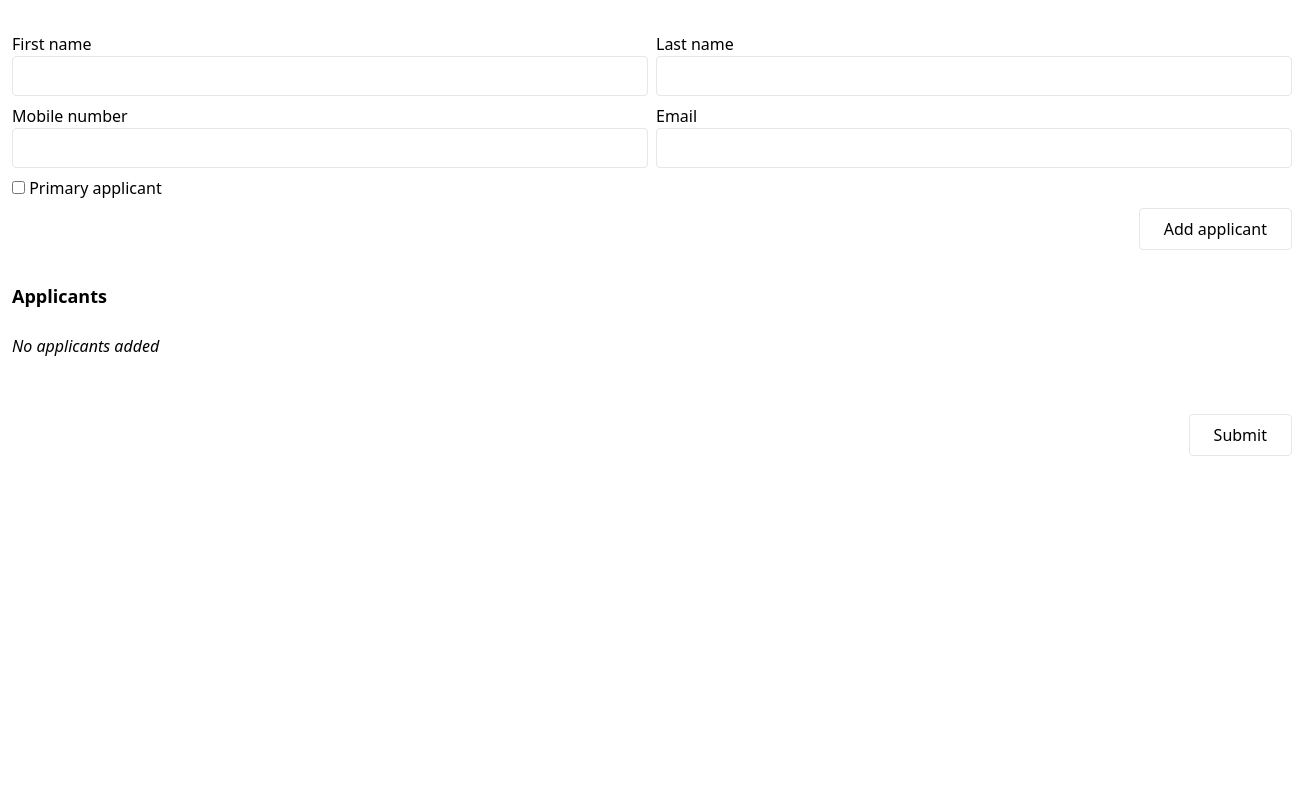
Test: Applicants › is submittable when applicant exists and primary selected
Step 1. Type "foo" into the field labelled "First name" → (330,76), box [12,56,648,96]
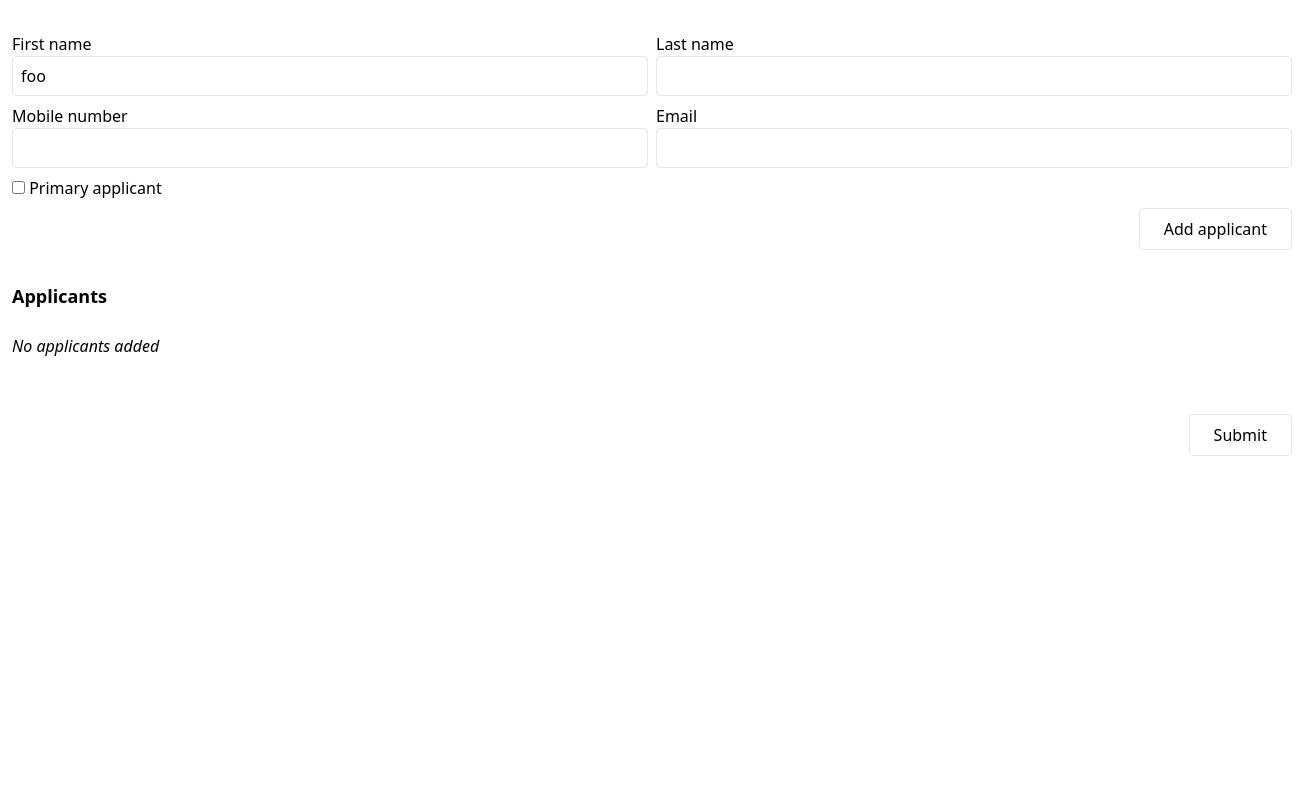
Step 2. Type "bar" into the field labelled "Last name" → (974,76), box [656,56,1292,96]
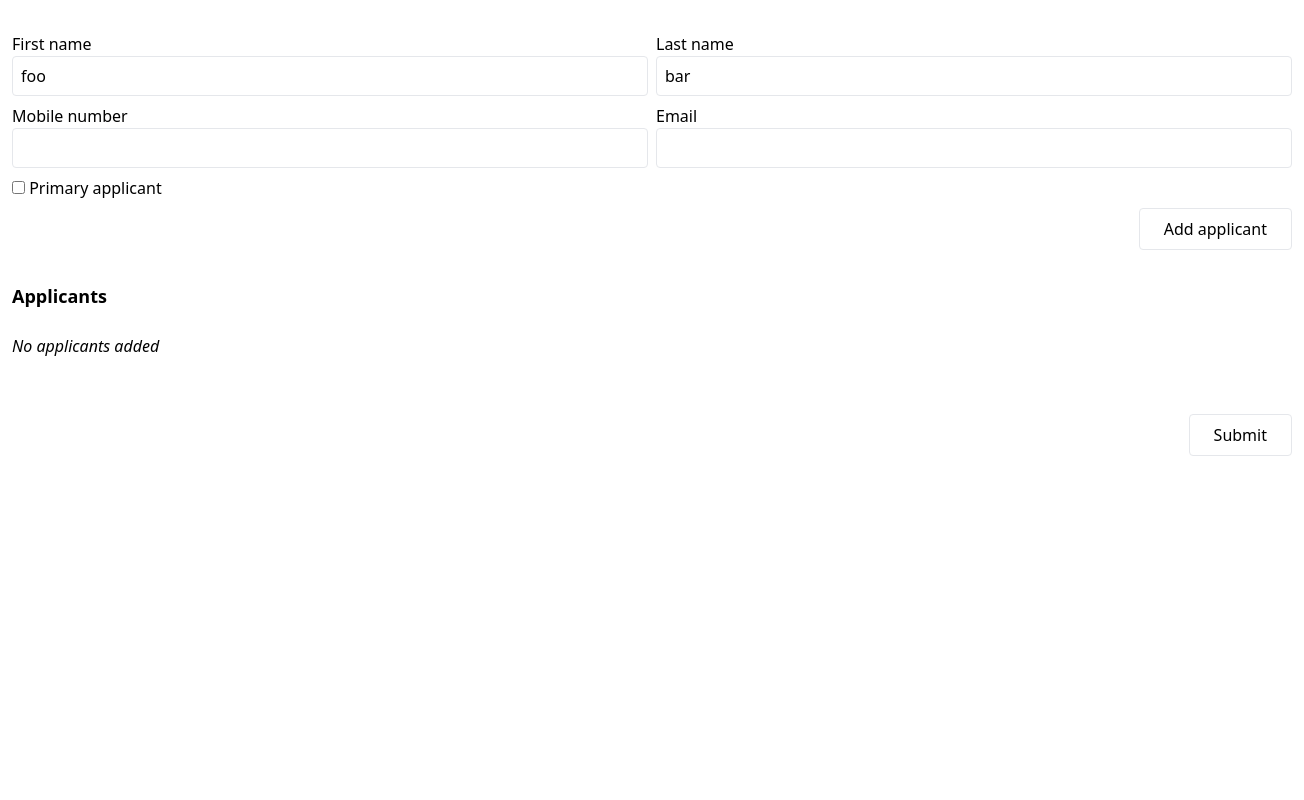
Step 3. Type "0400000000" into the field labelled "Mobile number" → (330,148), box [12,128,648,168]
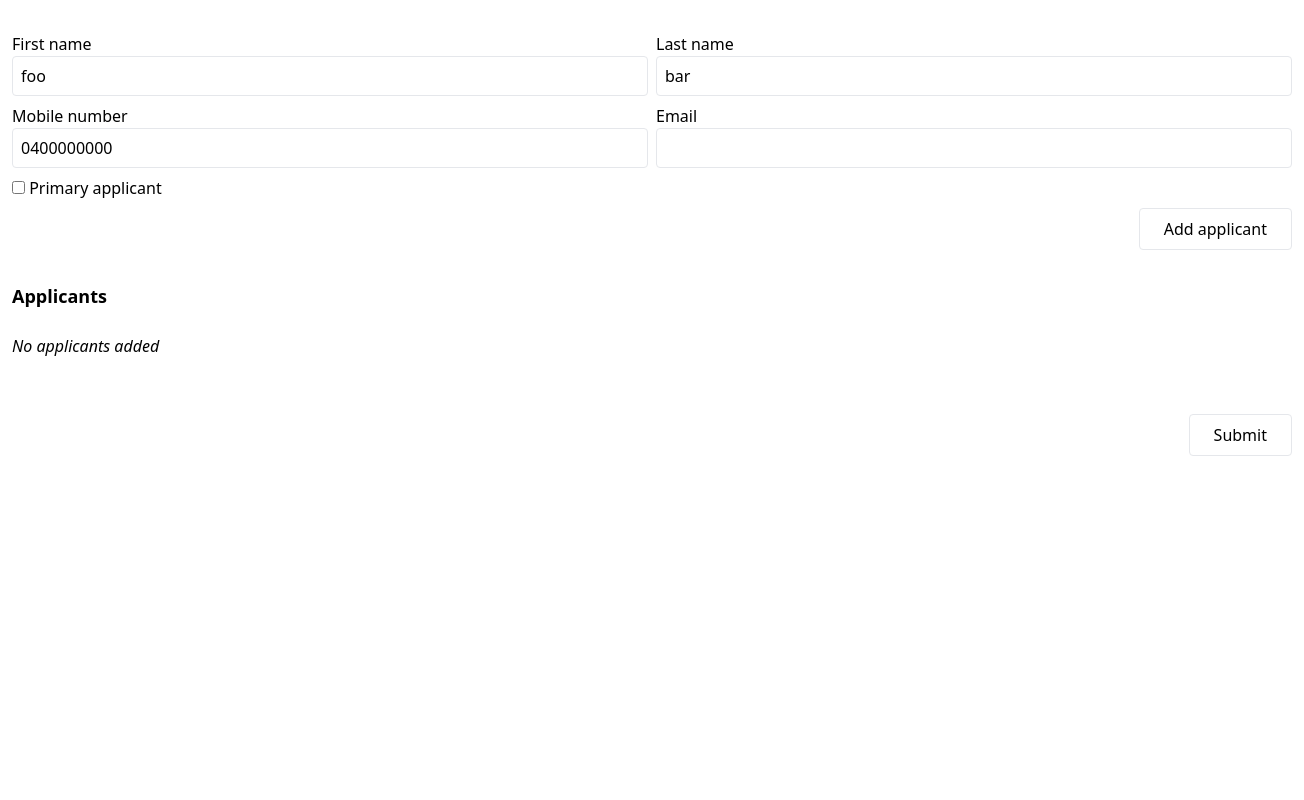
Step 4. Type "foo@bar.com" into the field labelled "Email" → (974,148), box [656,128,1292,168]
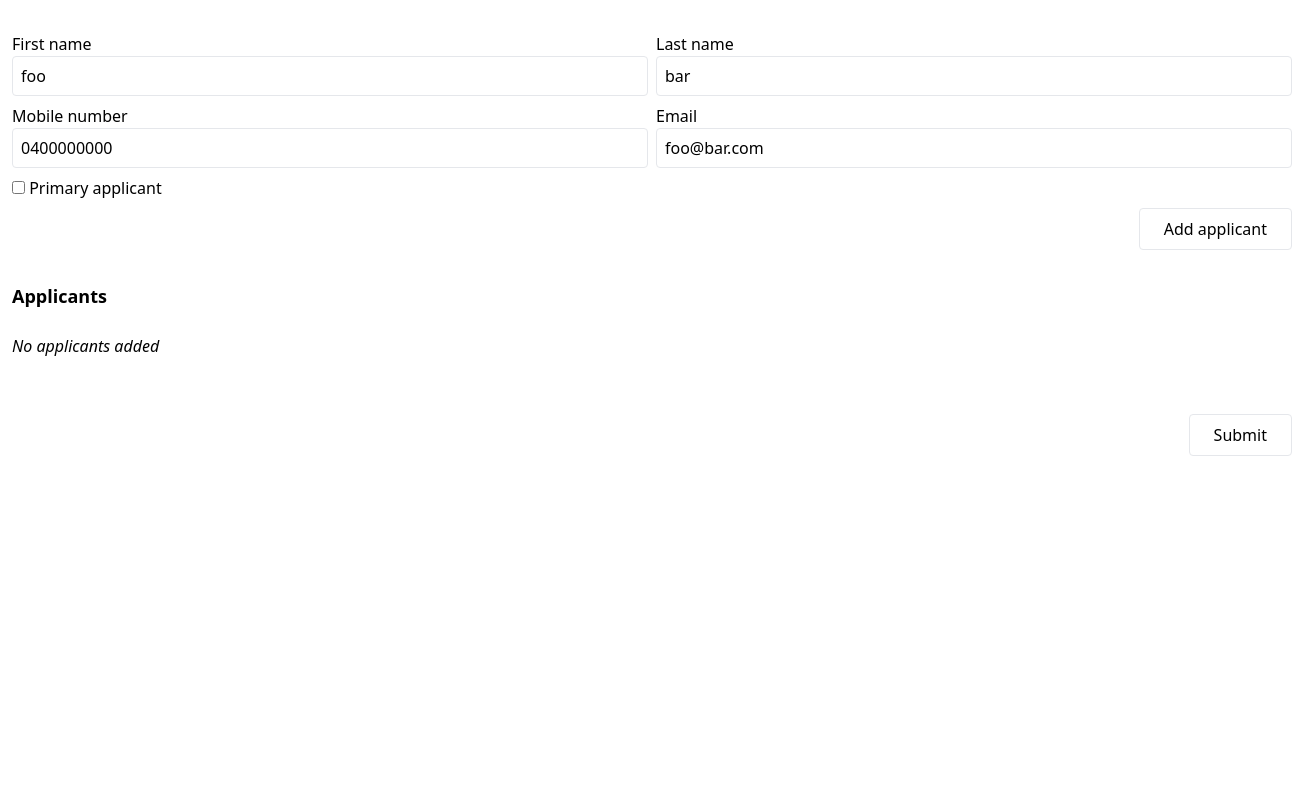
Step 5. Click the checkbox labelled "Primary applicant" → (18,188), box [12,181,25,194]
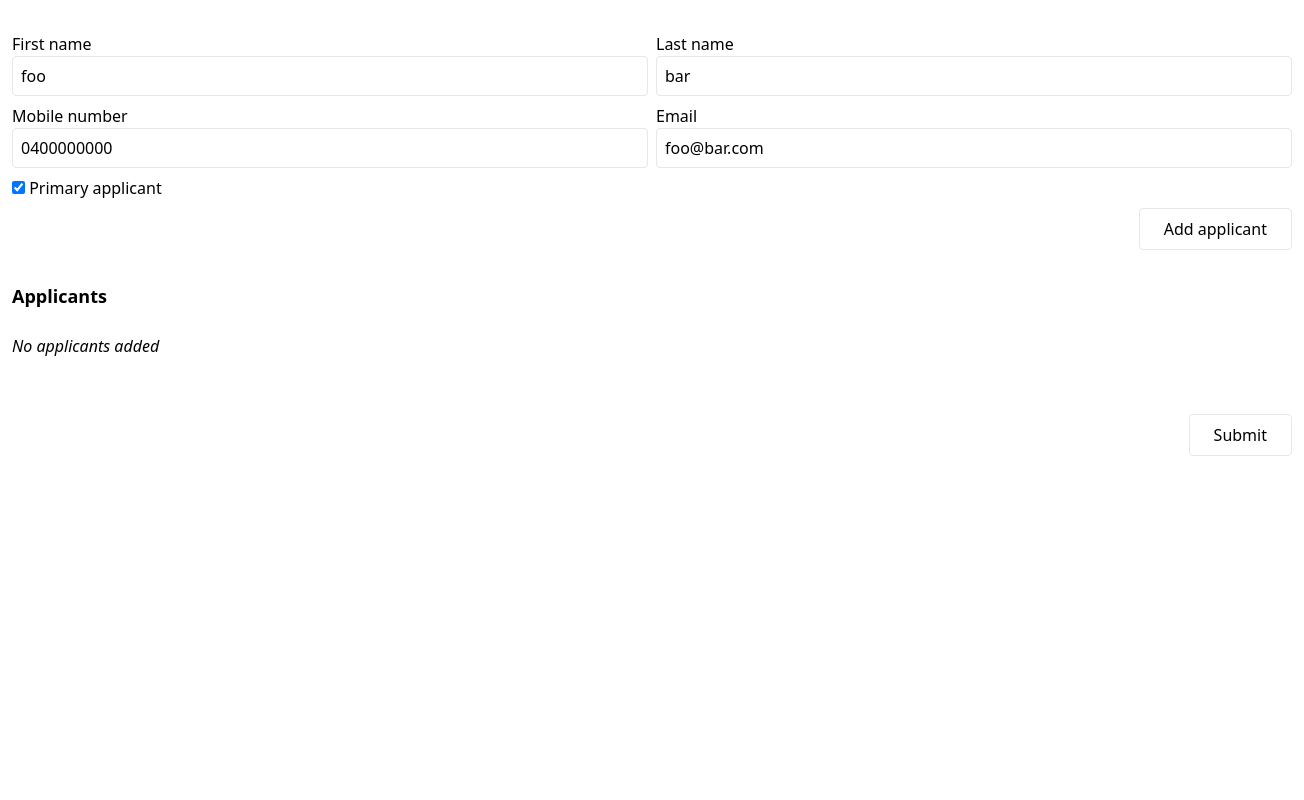
Step 6. Click the button "Add applicant" → (1215,229), box [1139,208,1292,250]
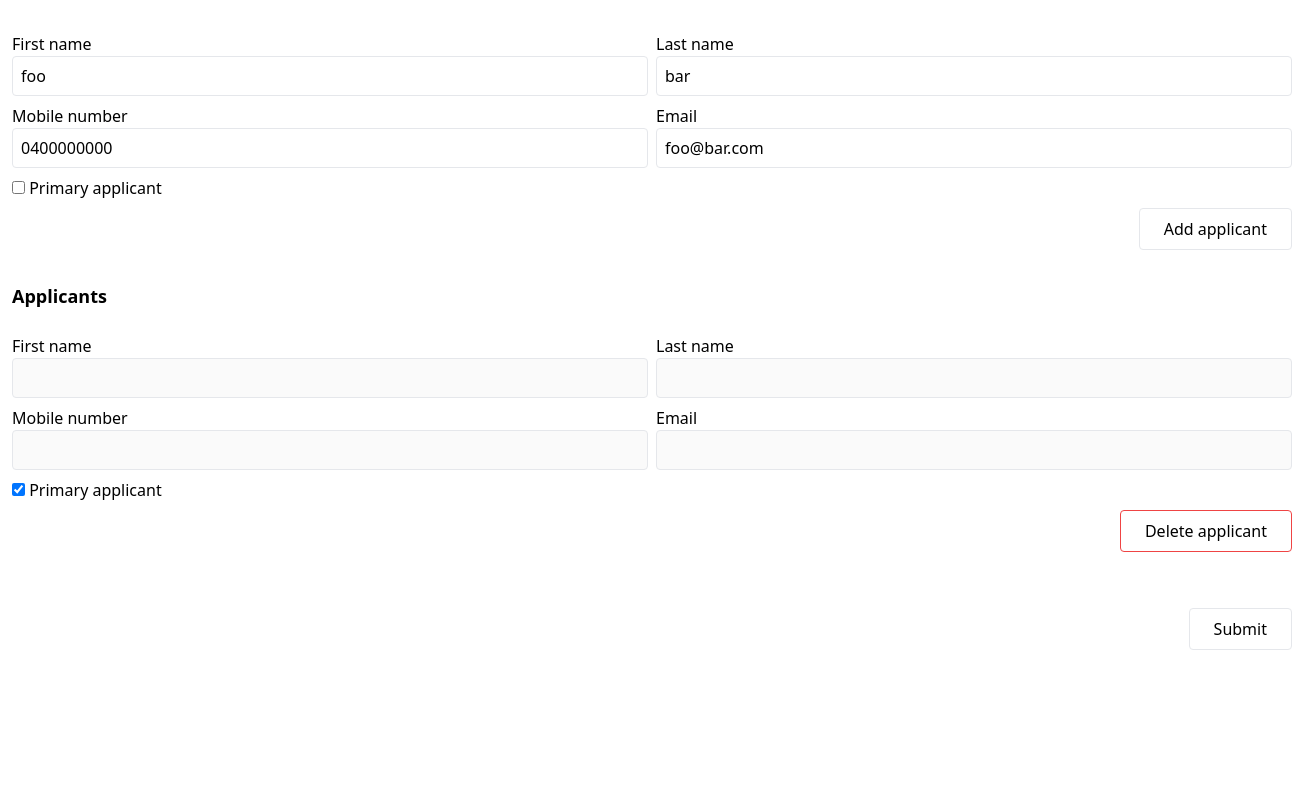
expect the button "Submit" is enabled: met, box [1189,608,1292,650]
